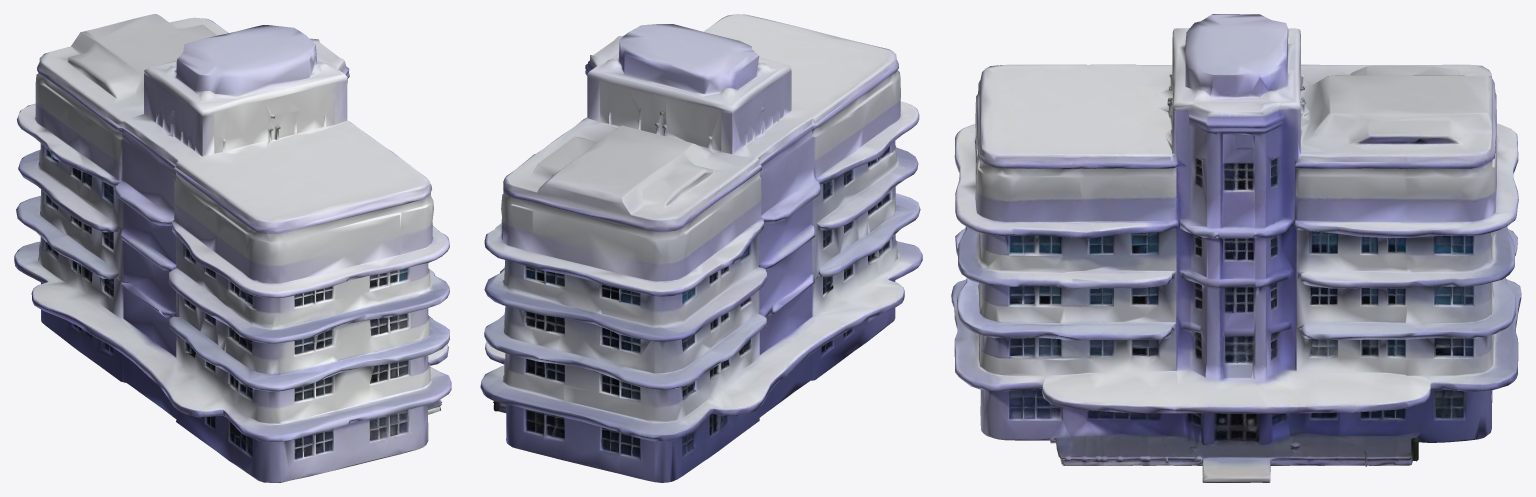
Rendered from bld_hotel_5b.glb.
3 renders of one model, left to right at view 1: azimuth 30°, elevation 25°; view 2: azimuth 150°, elevation 25°; view 3: azimuth 270°, elevation 25°, orthographic. The views are drawn at different scales.
Parts seen in each view (by area): view 1: tripo_node_970122e7-ba5b-4065-b6c1-32ef9b2551d0; view 2: tripo_node_970122e7-ba5b-4065-b6c1-32ef9b2551d0; view 3: tripo_node_970122e7-ba5b-4065-b6c1-32ef9b2551d0.
Boxes of the visible parts, x1,y1,x2,y2 form: tripo_node_970122e7-ba5b-4065-b6c1-32ef9b2551d0: (14, 14, 451, 482); tripo_node_970122e7-ba5b-4065-b6c1-32ef9b2551d0: (480, 14, 922, 482); tripo_node_970122e7-ba5b-4065-b6c1-32ef9b2551d0: (951, 14, 1521, 482).
Bounding box in the file's own units: 0.6335 × 0.6857 × 0.9788.
1 material, 1 textured.
